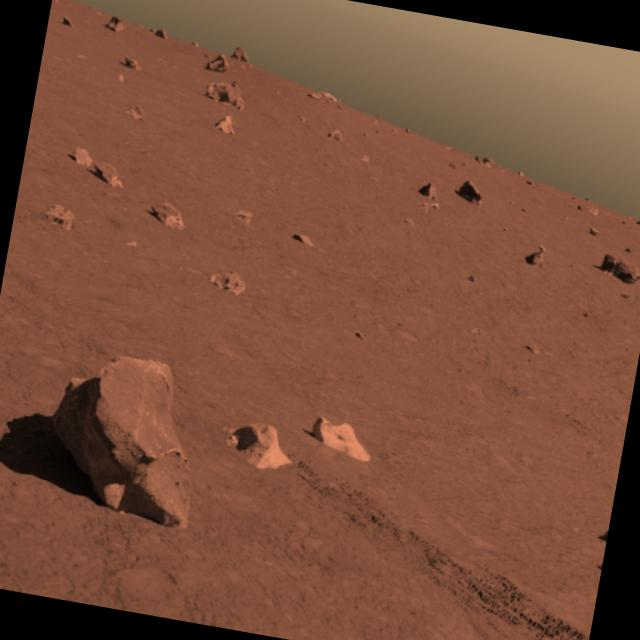rock: (36, 336, 222, 538)
